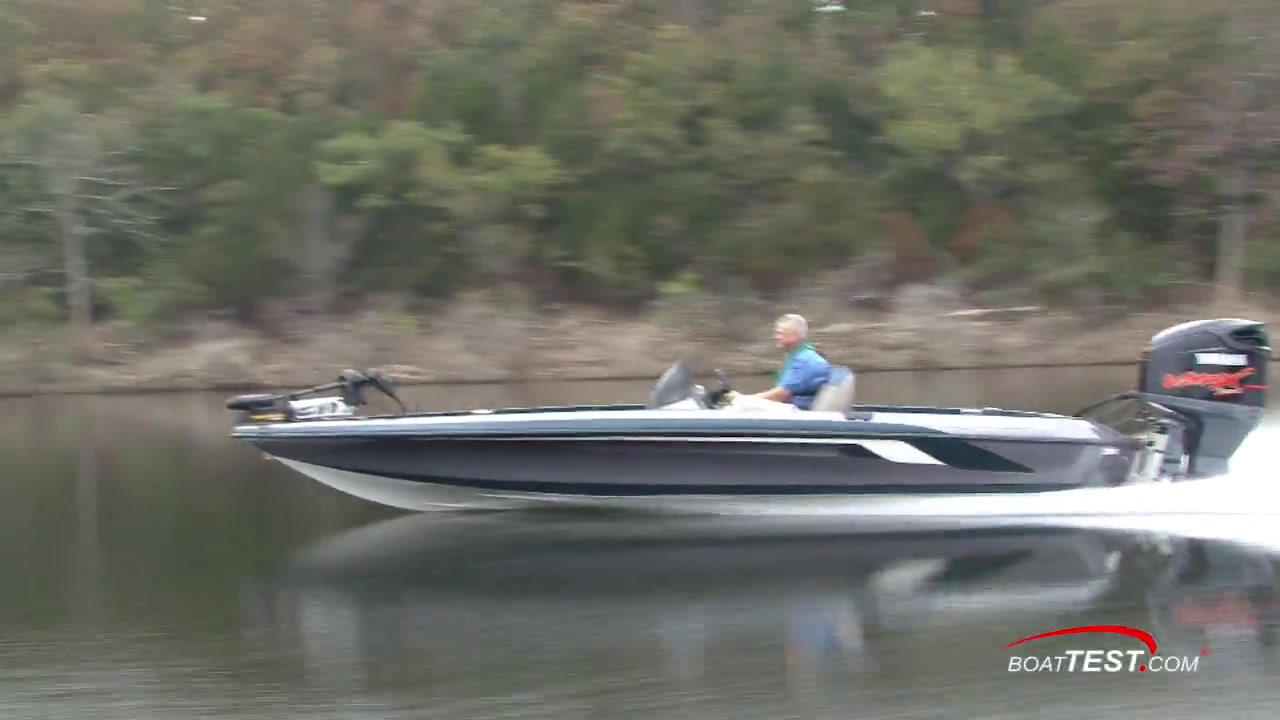boat: (223, 312, 1279, 530)
